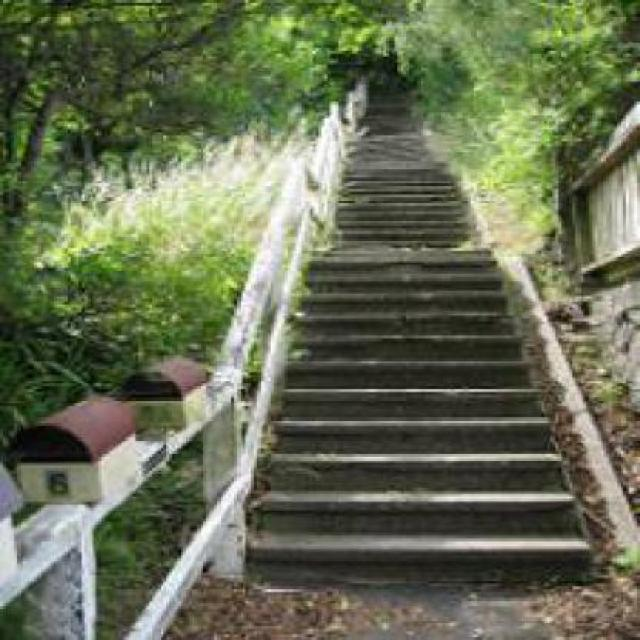stair: (263, 234, 585, 566)
